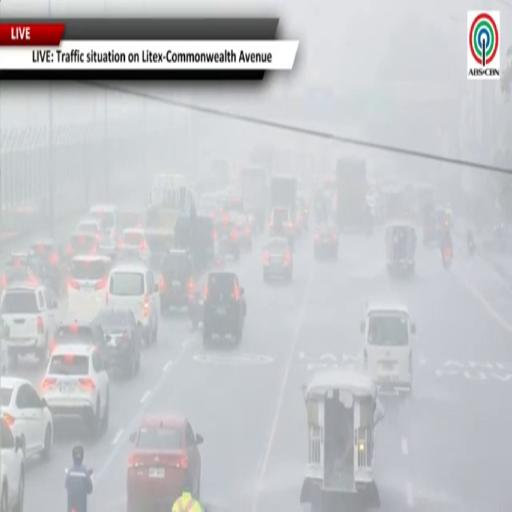car: (127, 413, 203, 511), (41, 345, 109, 437), (360, 303, 416, 393), (0, 283, 58, 364), (106, 263, 160, 344), (0, 377, 53, 458), (203, 271, 246, 345), (95, 308, 141, 377), (67, 255, 111, 321), (51, 318, 109, 362), (0, 418, 25, 511), (159, 250, 195, 313), (30, 239, 64, 294), (0, 252, 46, 289), (77, 217, 115, 254), (263, 237, 293, 281), (117, 229, 151, 267), (89, 204, 118, 247), (145, 229, 173, 270), (216, 215, 241, 260), (269, 206, 294, 244), (188, 277, 206, 329), (66, 233, 99, 259), (314, 224, 338, 259), (117, 208, 145, 232), (234, 215, 252, 250), (76, 218, 104, 237)
motorcycle: (442, 246, 452, 269), (468, 239, 475, 255), (68, 506, 79, 511)
truck: (336, 157, 371, 231), (240, 165, 269, 230), (271, 175, 297, 219)
